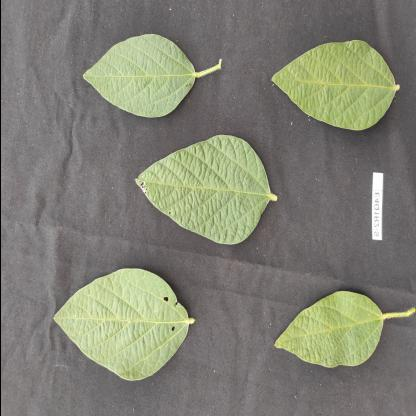label: (368, 172, 388, 248)
leaflets: (49, 264, 197, 386), (129, 137, 278, 250), (263, 32, 397, 136), (79, 34, 195, 120), (272, 287, 386, 370)
